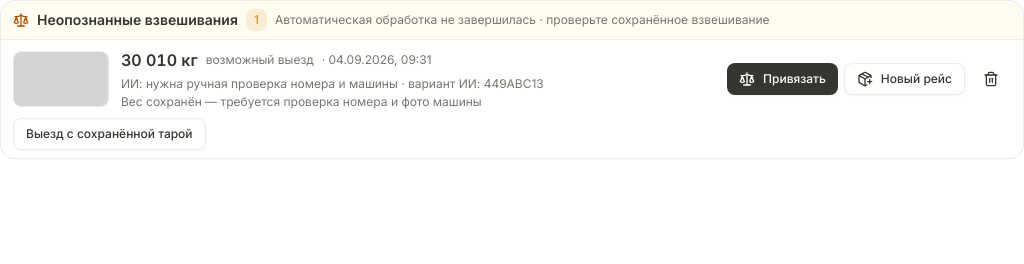
Test: UnassignedWeighingsPanel › keeps manual assignment available when the AI cannot verify the vehicle
Expected: the text "ИИ: нужна ручная проверка номера и машины" is shown, [121,76,398,91]
Expected: the text "449ABC13" is shown, [398,76,544,91]
Click the button "Привязать" at (782, 79), box [727,63,838,95]
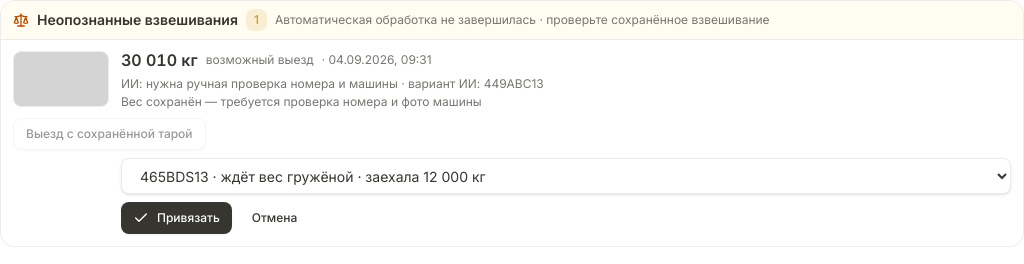
Expected: the dropdown named "Рейс для привязки" is shown, [121,158,1011,194]
